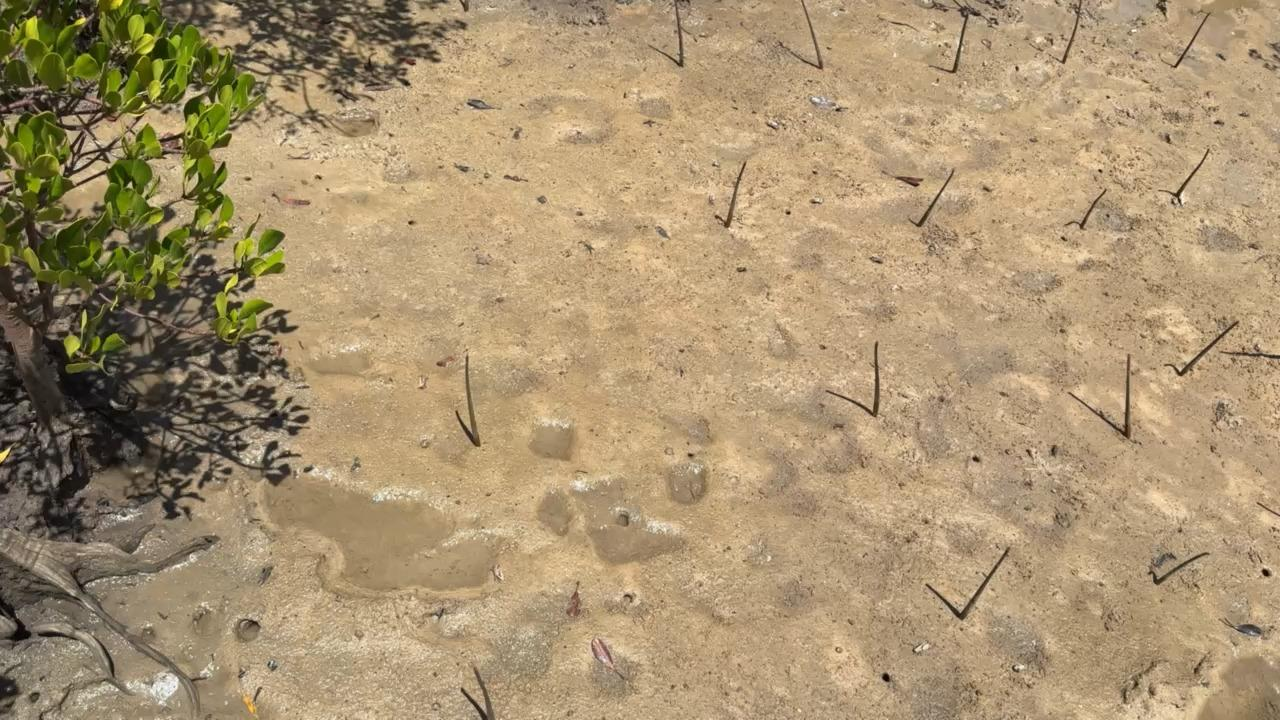Tree: (958, 546, 1010, 620), (1180, 321, 1240, 375), (917, 168, 955, 226), (1173, 11, 1211, 67), (1156, 552, 1209, 585), (799, 0, 824, 69), (1175, 148, 1210, 196), (725, 161, 747, 229), (463, 354, 479, 446), (1062, 0, 1083, 65), (473, 666, 495, 720), (952, 12, 970, 73), (1080, 189, 1107, 229), (1123, 352, 1131, 438), (872, 340, 881, 416), (674, 0, 684, 67), (462, 0, 469, 12)
